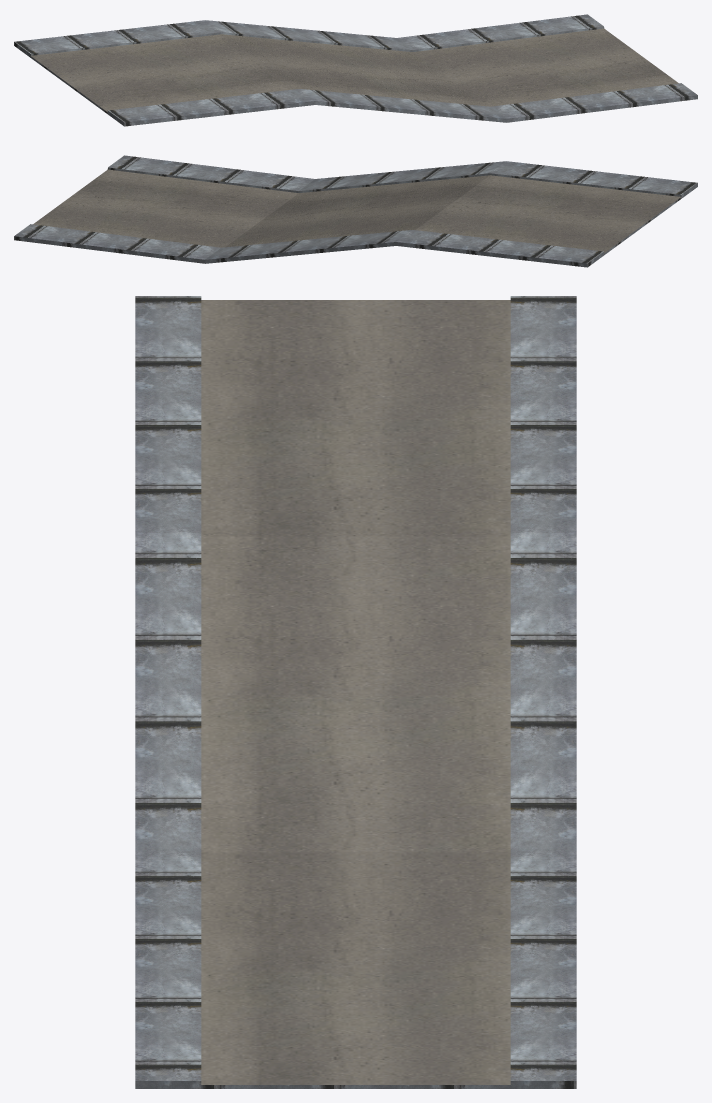
File: Urban_Road3Slope_Model.fbx
3 views of the same model, one above another, from view 1: azimuth 30°, elevation 25°; view 2: azimuth 150°, elevation 25°; view 3: azimuth 270°, elevation 25° (orthographic). The views are drawn at different scales.
Visible parts, largest first — view 1: Urban_Road3Slope_Mesh; view 2: Urban_Road3Slope_Mesh; view 3: Urban_Road3Slope_Mesh.
Boxes of the visible parts, x1=… form: Urban_Road3Slope_Mesh: x1=14, y1=14, x2=697, y2=126; Urban_Road3Slope_Mesh: x1=14, y1=155, x2=697, y2=267; Urban_Road3Slope_Mesh: x1=135, y1=296, x2=576, y2=1088.
Size of the model in its own units: 48 by 9.32 by 16.
